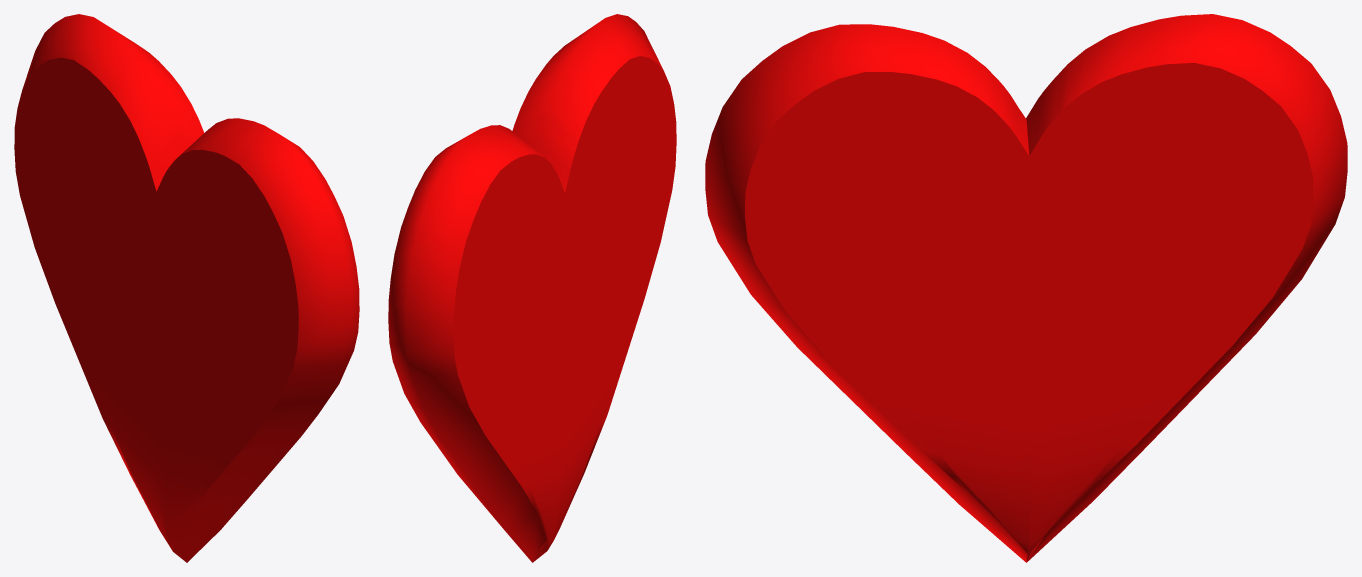
Rendered from asset.gltf.
3 views of the same model, side by side, from view 1: azimuth 30°, elevation 25°; view 2: azimuth 150°, elevation 25°; view 3: azimuth 270°, elevation 25° (orthographic). The views are drawn at different scales.
Parts seen in each view (by area): view 1: pCube1; view 2: pCube1; view 3: pCube1.
Part boxes in pixels (x1,y1,x2,y2): pCube1: (14,14,359,562); pCube1: (388,14,676,562); pCube1: (705,14,1347,562).
Bounding box in the file's own units: 0.8232 × 4.13 × 4.42.
